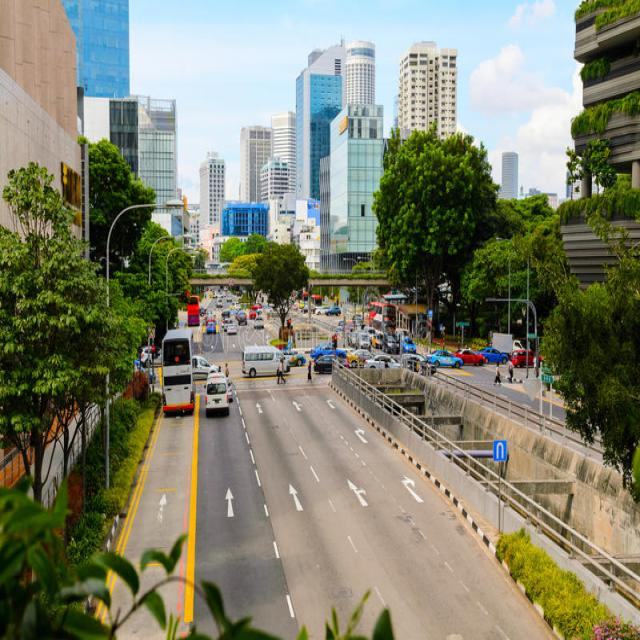Clean road: (103, 383, 640, 640)
